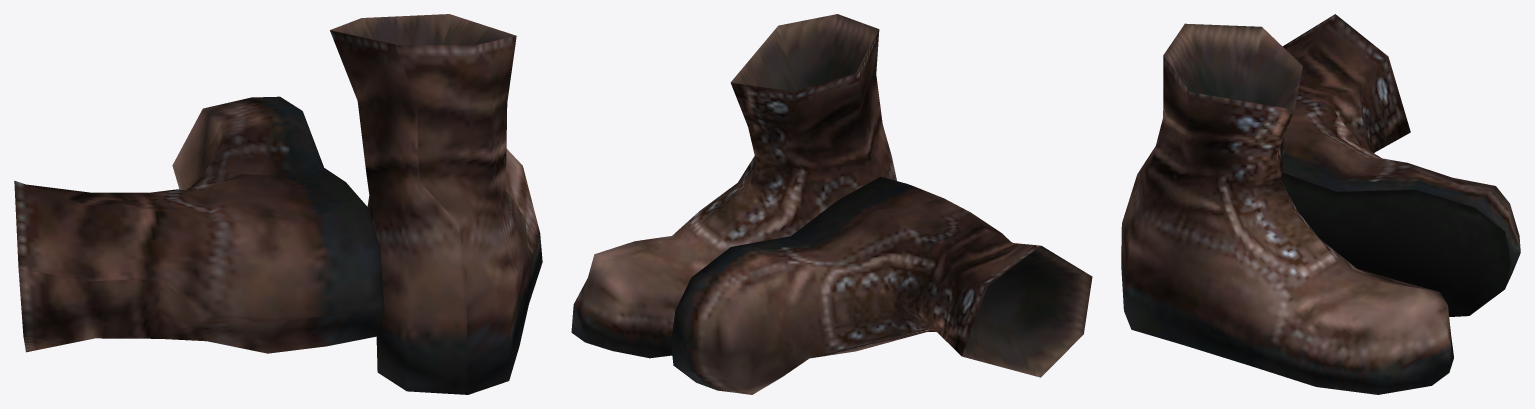
File: Pickup_ShoesA.glb
The picture shows the model from 3 angles, left to right: view 1: azimuth 30°, elevation 25°; view 2: azimuth 150°, elevation 25°; view 3: azimuth 270°, elevation 25°; orthographic projection. The views are drawn at different scales.
Parts seen in each view (by area): view 1: pk_shoes_a; view 2: pk_shoes_a; view 3: pk_shoes_a.
Boxes of the visible parts, x1,y1,x2,y2 form: pk_shoes_a: (14,14,542,394); pk_shoes_a: (571,14,1092,394); pk_shoes_a: (1121,14,1520,394).
Size of the model in its own units: 0.779 by 0.4413 by 0.5708.
1 material, 1 textured.
